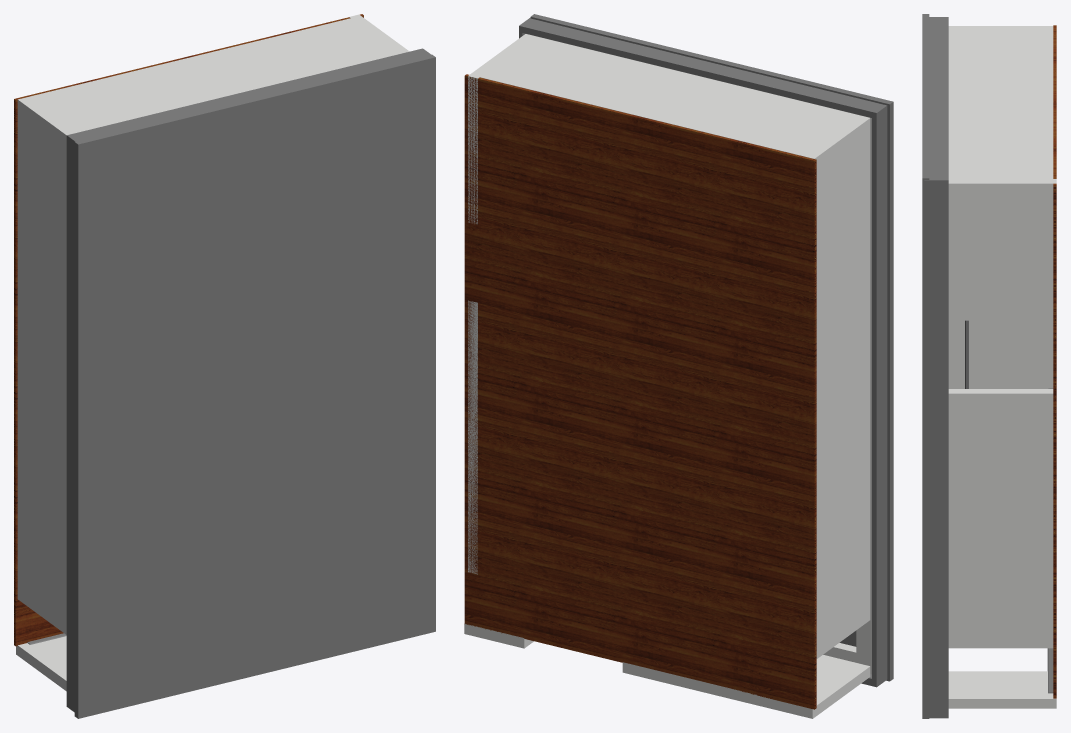
Rendered from Gallery.fbx.
3 views of the same model, side by side, from view 1: azimuth 30°, elevation 25°; view 2: azimuth 150°, elevation 25°; view 3: azimuth 270°, elevation 25° (orthographic). The views are drawn at different scales.
Parts seen in each view (by area): view 1: Object_14, walls, Object_15, Object_16; view 2: Object_16, walls, Object_15, Object_14; view 3: walls, Object_15, Object_14, Object_16, mouldings, Object_12.
Boxes of the visible parts, x1=… form: Object_14: x1=74, y1=54, x2=435, y2=718; walls: x1=16, y1=14, x2=409, y2=691; Object_15: x1=66, y1=48, x2=430, y2=712; Object_16: x1=14, y1=14, x2=363, y2=646; Object_16: x1=464, y1=74, x2=816, y2=709; walls: x1=464, y1=34, x2=871, y2=718; Object_15: x1=519, y1=17, x2=887, y2=687; Object_14: x1=530, y1=14, x2=893, y2=681; walls: x1=948, y1=26, x2=1056, y2=708; Object_15: x1=924, y1=17, x2=948, y2=718; Object_14: x1=922, y1=14, x2=929, y2=718; Object_16: x1=1053, y1=25, x2=1056, y2=698; mouldings: x1=1047, y1=388, x2=1053, y2=693; Object_12: x1=965, y1=320, x2=968, y2=388.
Bounding box in the file's own units: 72.13 × 110 × 24.86.
